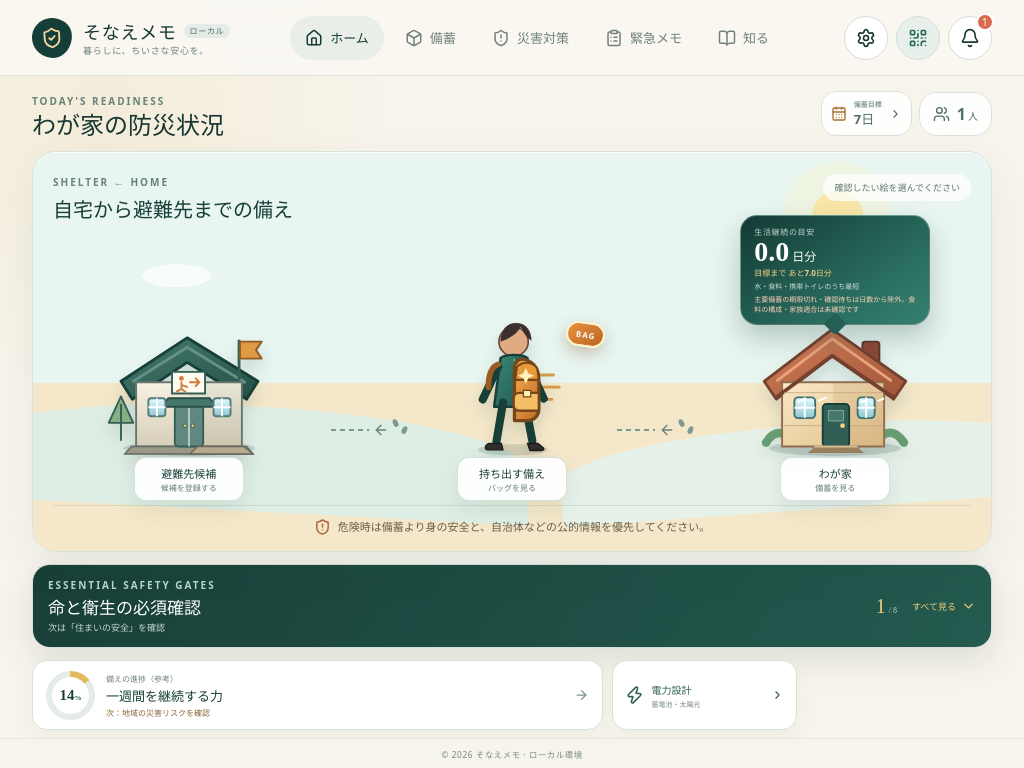
Scenario: 電力設計ページの導線 › 主要備蓄が確認待ちの間は補充を促さず、先に実物確認を案内する
This screenshot has width=1024, height=768.
Click the button named "通知一覧を開く（1件）".
click(970, 38)  # box [948, 16, 992, 60]
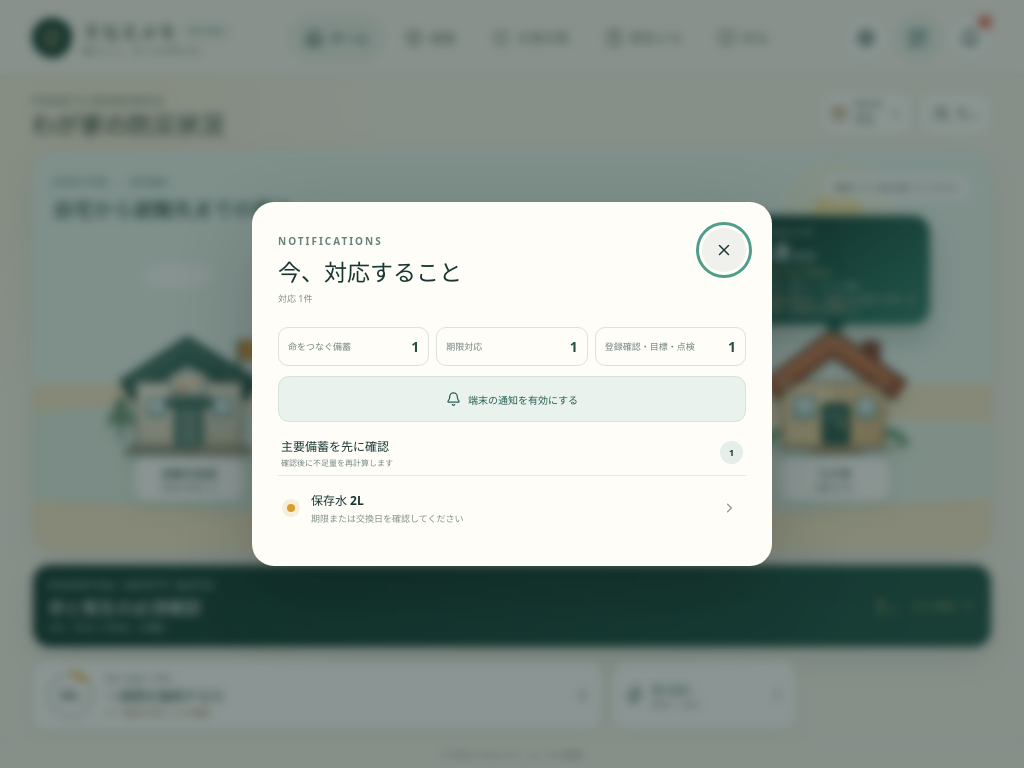
Now the heading "主要備蓄を先に確認" is shown, box [281, 437, 393, 455]
Now the text "確認後に不足量を再計算します" is shown, box [281, 457, 393, 468]
Now the text "保存水 2L" is shown, box [311, 492, 364, 509]
